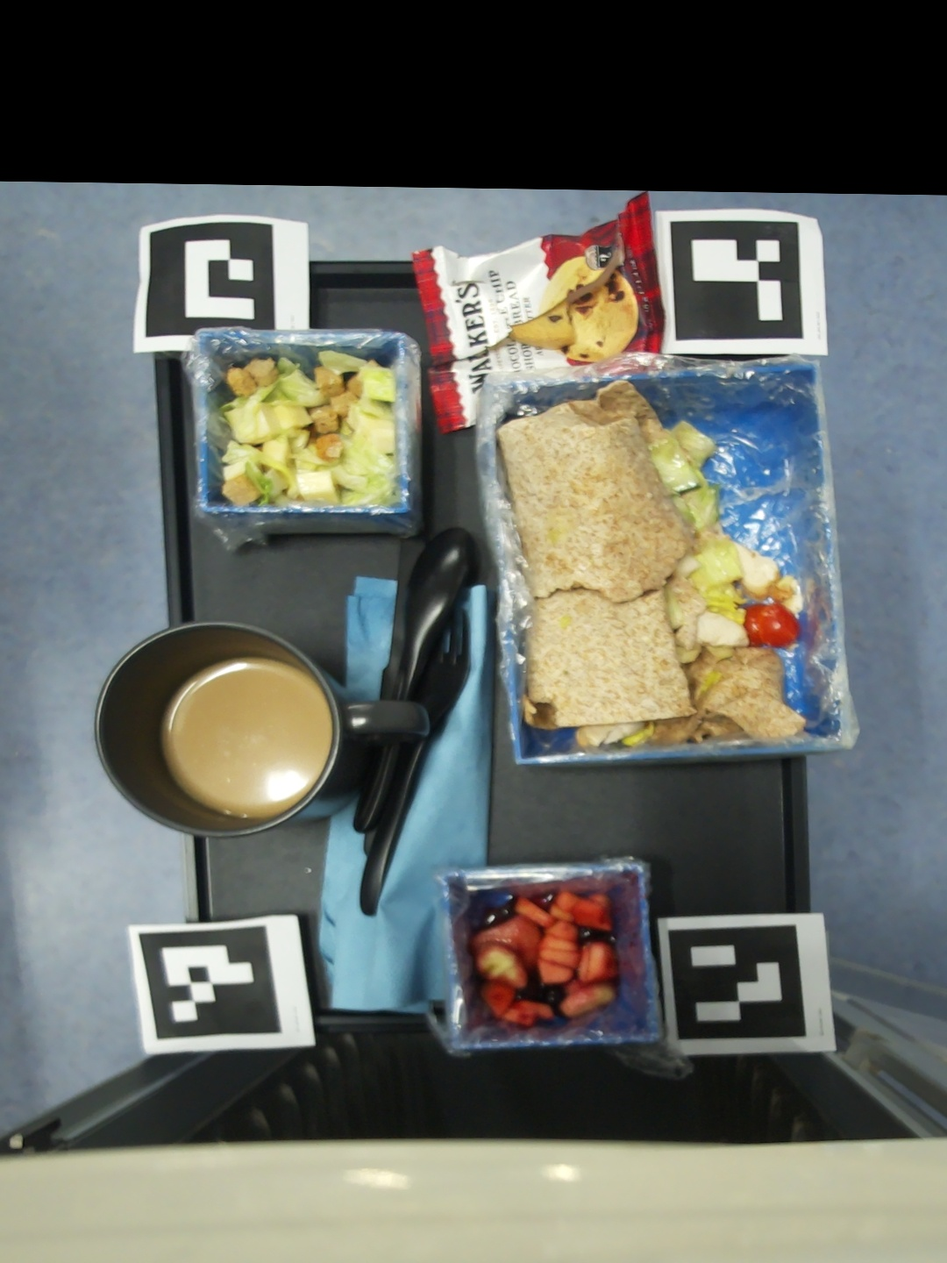coffee_cup: (92, 622, 428, 838)
cookie: (411, 192, 664, 435)
fruit_salad: (469, 892, 618, 1030)
side_salad: (215, 350, 400, 508)
wrap_half_1: (496, 379, 722, 730)
wrap_half_2: (576, 518, 807, 747)
